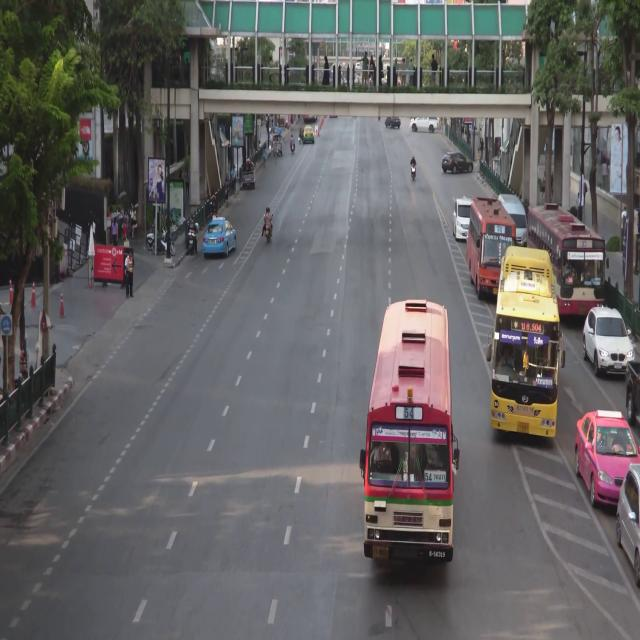bus: (365, 301, 452, 574), (493, 245, 555, 439), (529, 205, 604, 321), (472, 196, 512, 296)
car: (584, 309, 633, 374), (619, 465, 640, 584), (499, 195, 525, 245), (624, 358, 640, 424), (454, 197, 471, 240), (441, 152, 474, 174), (410, 115, 439, 133), (241, 162, 255, 189), (384, 116, 401, 128), (274, 136, 283, 155)
pedestrian: (126, 253, 134, 297), (130, 204, 136, 238), (111, 219, 117, 247), (621, 205, 627, 231), (231, 165, 236, 194), (185, 168, 190, 195), (122, 219, 128, 240), (583, 177, 587, 207), (262, 148, 267, 169), (226, 174, 229, 202), (178, 169, 184, 179), (258, 140, 261, 149)
taxi: (576, 408, 640, 504), (204, 215, 236, 252), (302, 126, 314, 144)
